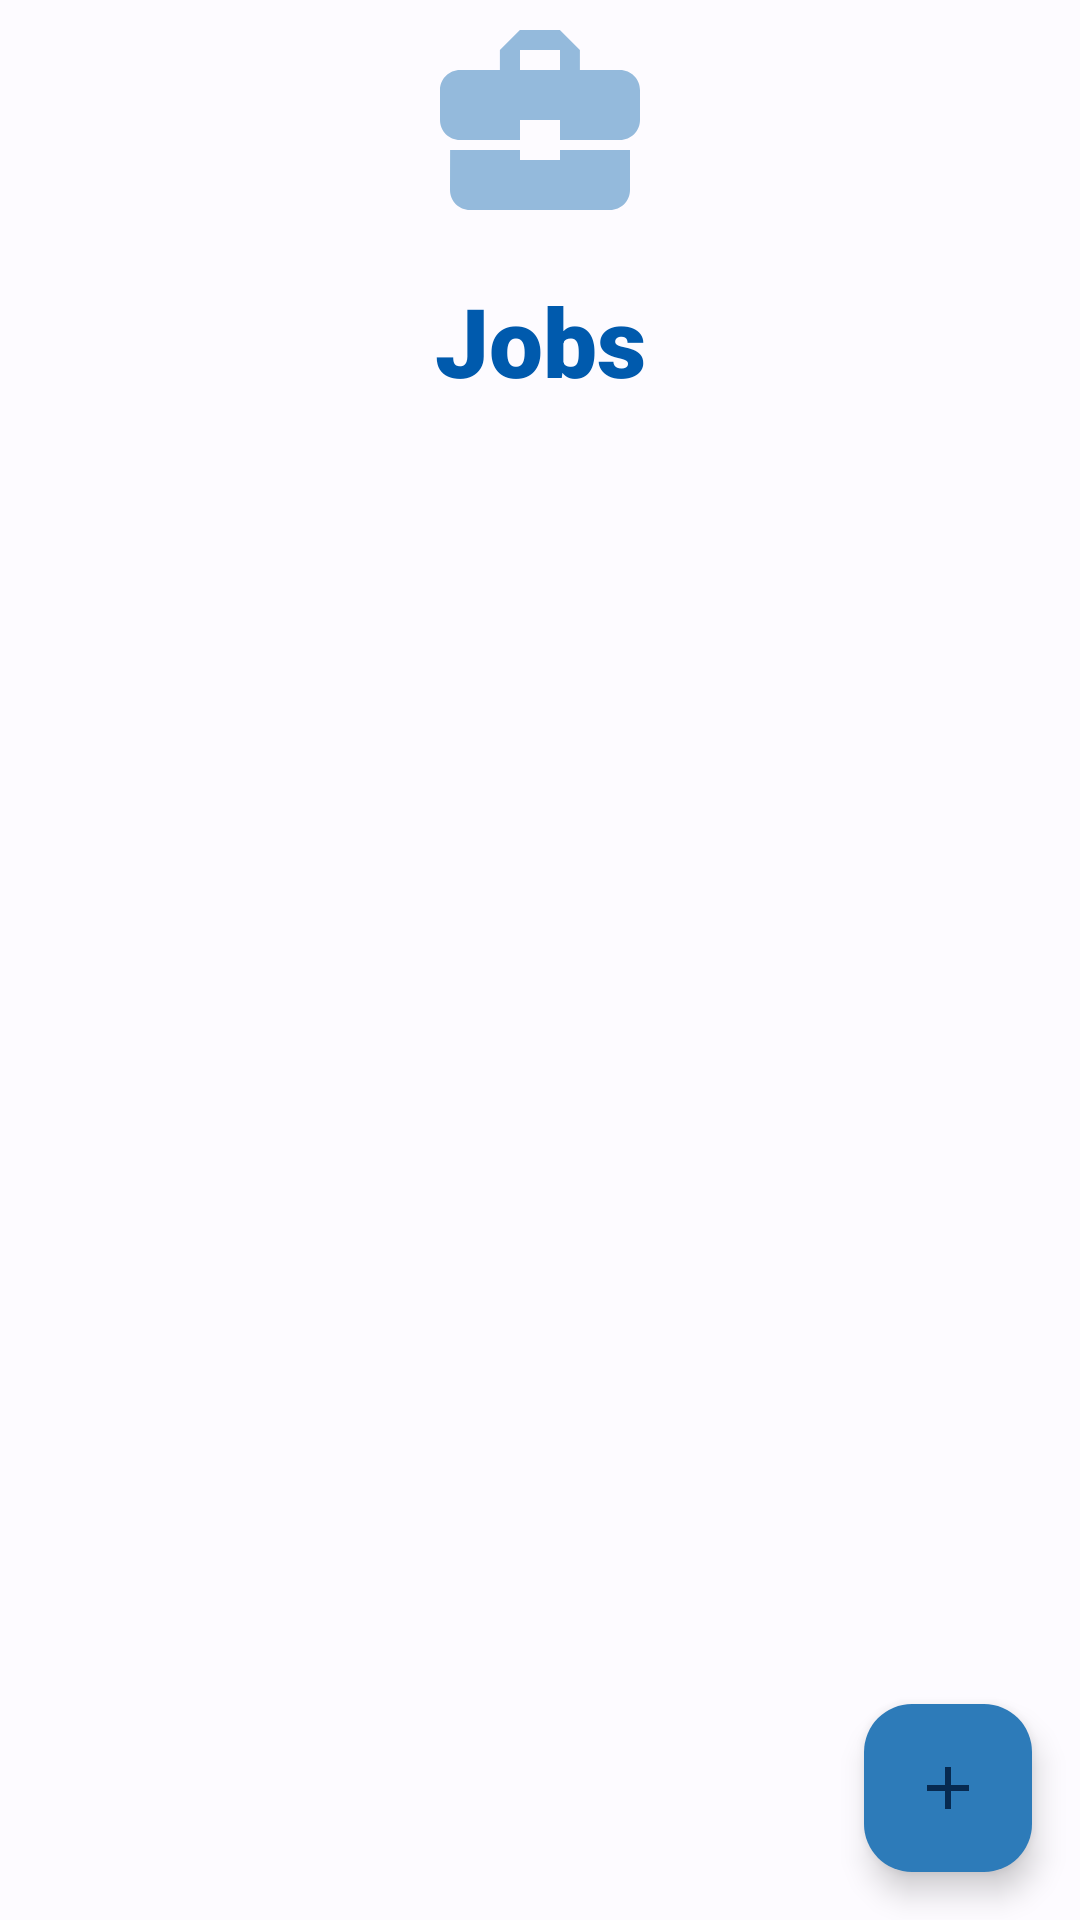

Icon bounding boxes for this 1080 × 1920 phone screenshot, format (x1, y1, x2, y2):
Add Profile: (864, 1704, 1032, 1872)
